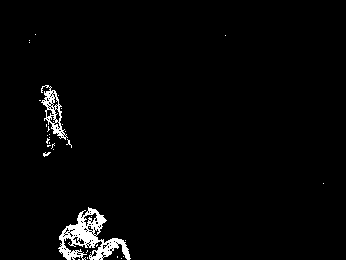person: (52, 206, 132, 260), (37, 84, 74, 160)
